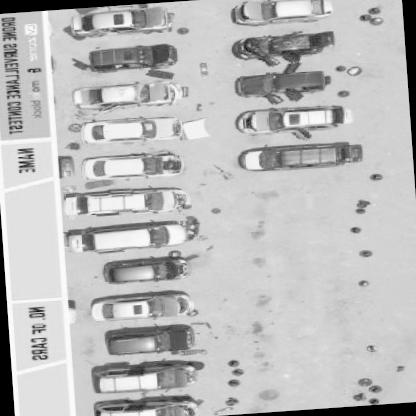car: (32, 0, 415, 415), (66, 222, 194, 255), (61, 188, 184, 221), (238, 140, 361, 172), (73, 79, 185, 113), (236, 102, 354, 134), (231, 28, 335, 63), (79, 151, 183, 184), (78, 116, 183, 147), (92, 291, 197, 322), (70, 6, 172, 37), (95, 365, 202, 394), (230, 0, 332, 28), (84, 43, 179, 73), (104, 327, 199, 356), (102, 256, 192, 286), (234, 70, 327, 98), (95, 392, 201, 415)
